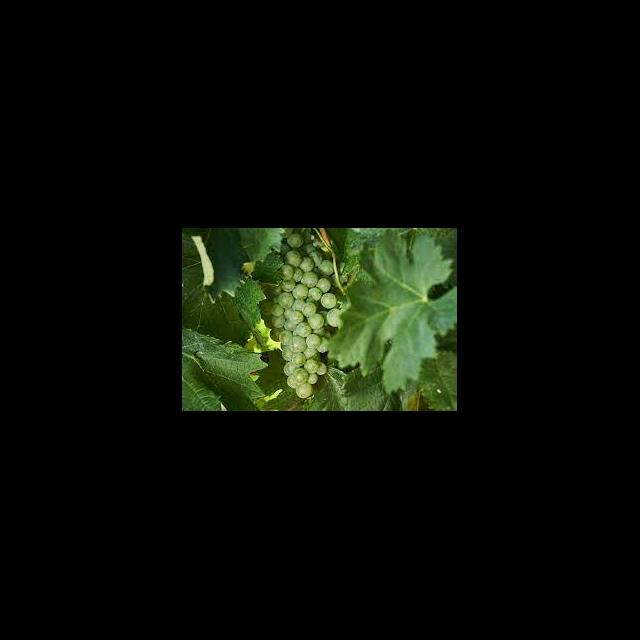grape: (258, 228, 350, 398)
